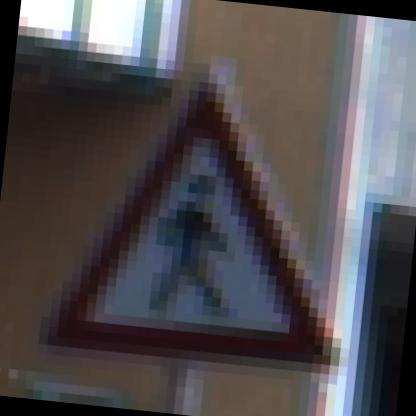crosswalk: (24, 42, 338, 398)
